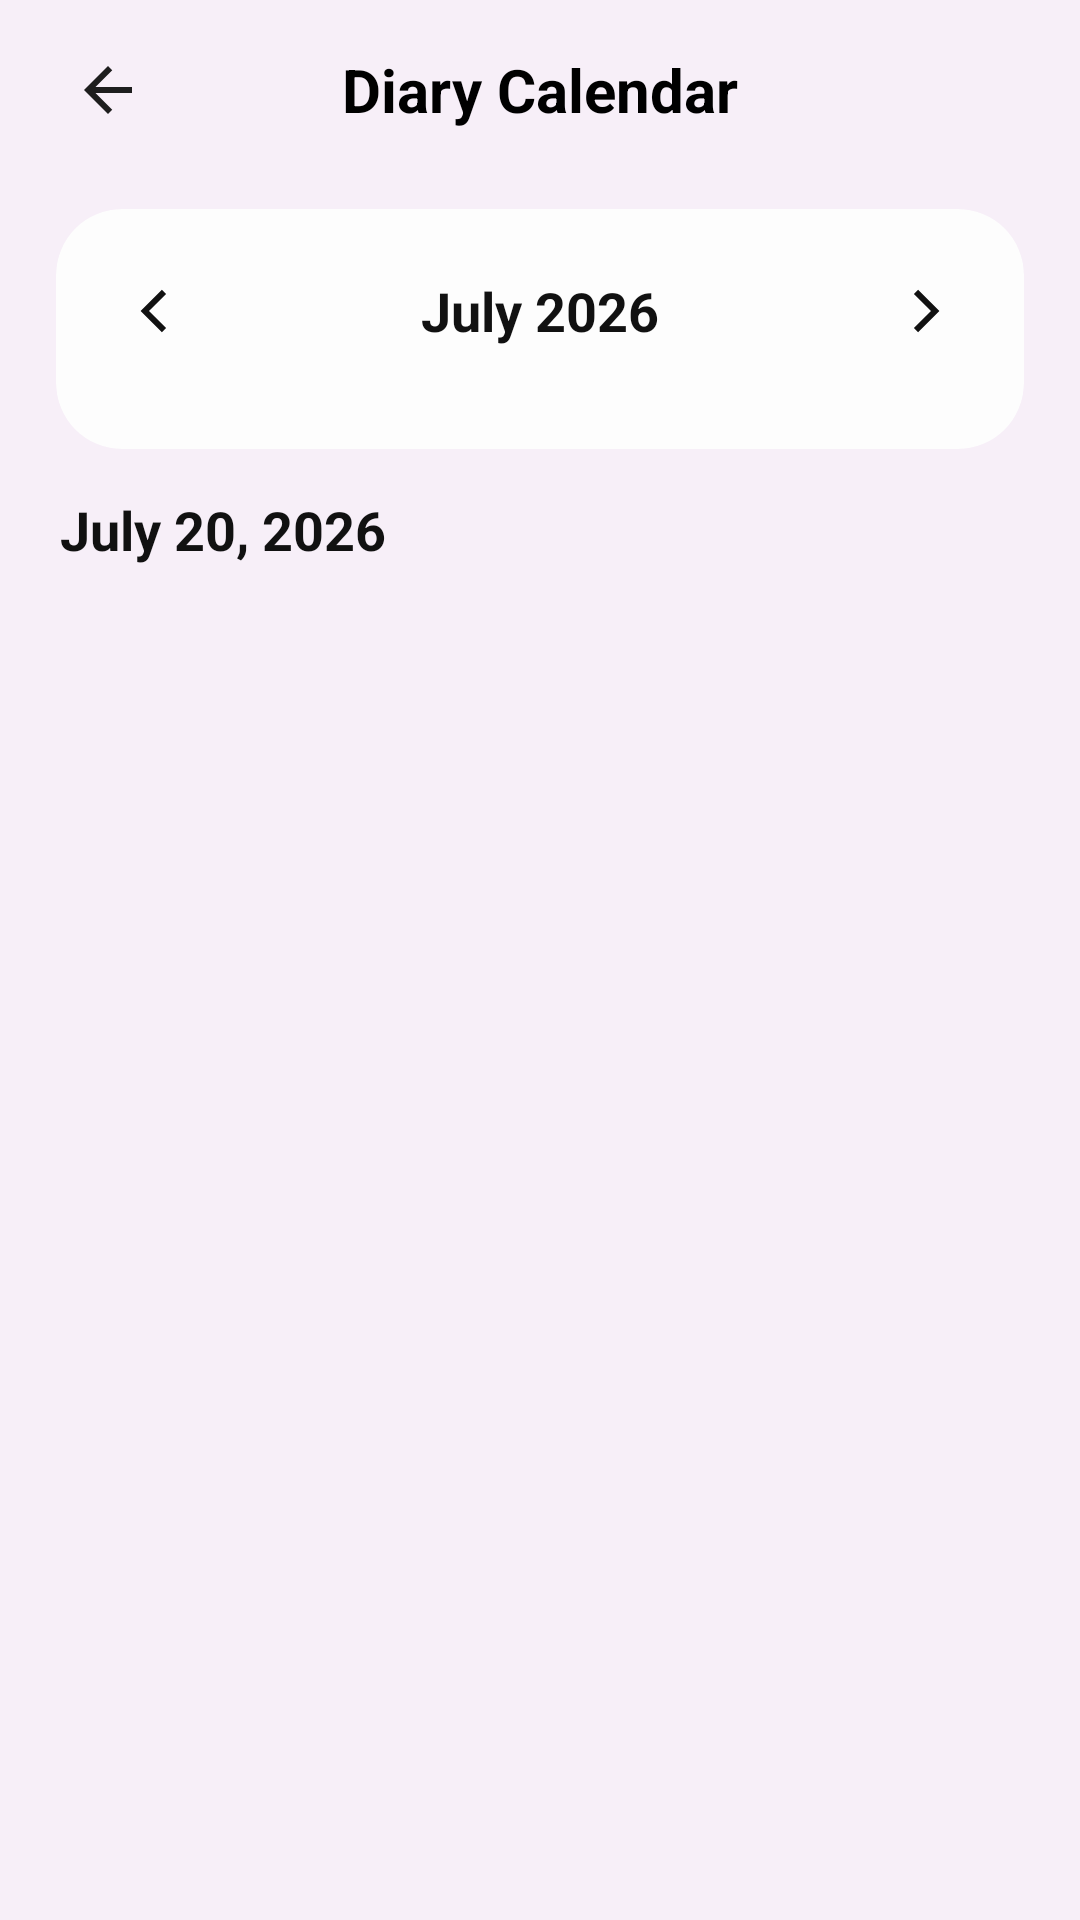

Named icons in this screenshot (1080px x 1920px) and their bounding boxes, {"left": x1, "top": y1, "right": x2, "bottom": y2}:
Back: {"left": 84, "top": 66, "right": 132, "bottom": 114}
Next Month: {"left": 914, "top": 290, "right": 939, "bottom": 332}
Previous Month: {"left": 141, "top": 290, "right": 166, "bottom": 332}
